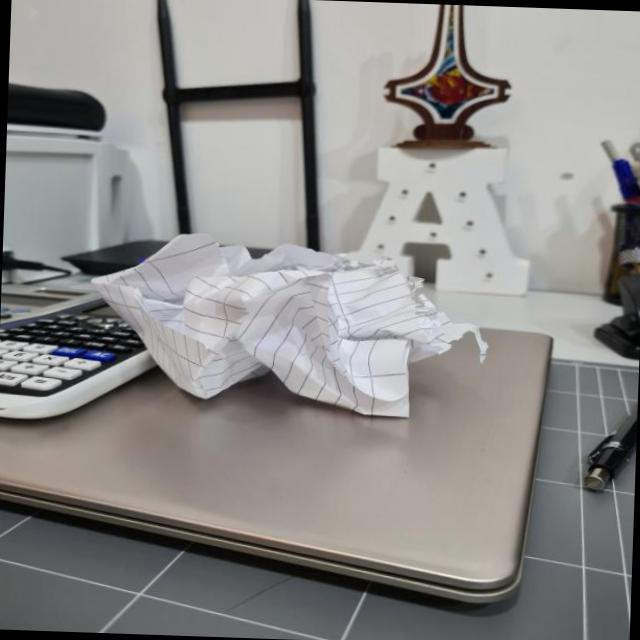cardboard paper: (95, 233, 484, 415)
